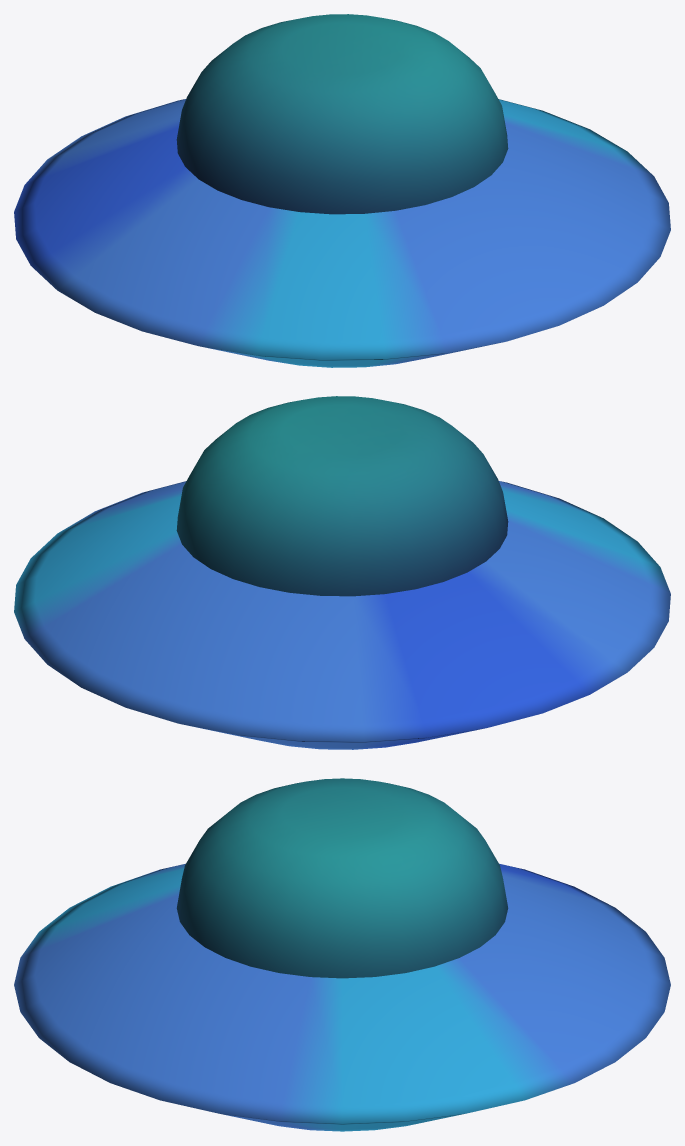
The model's file is тарелка 1.fbx.
3 renders of one model, top to bottom at view 1: azimuth 30°, elevation 25°; view 2: azimuth 150°, elevation 25°; view 3: azimuth 270°, elevation 25°, orthographic.
Visible parts, largest first — view 1: Cylinder, Cylinder.001; view 2: Cylinder, Cylinder.001; view 3: Cylinder, Cylinder.001.
Boxes of the visible parts, <box> form: Cylinder: <box>14,99,670,367</box>; Cylinder.001: <box>176,14,508,214</box>; Cylinder: <box>14,481,670,749</box>; Cylinder.001: <box>176,396,508,596</box>; Cylinder: <box>14,863,670,1131</box>; Cylinder.001: <box>176,778,508,978</box>.
Bounding box in the file's own units: 396 × 165 × 396.
